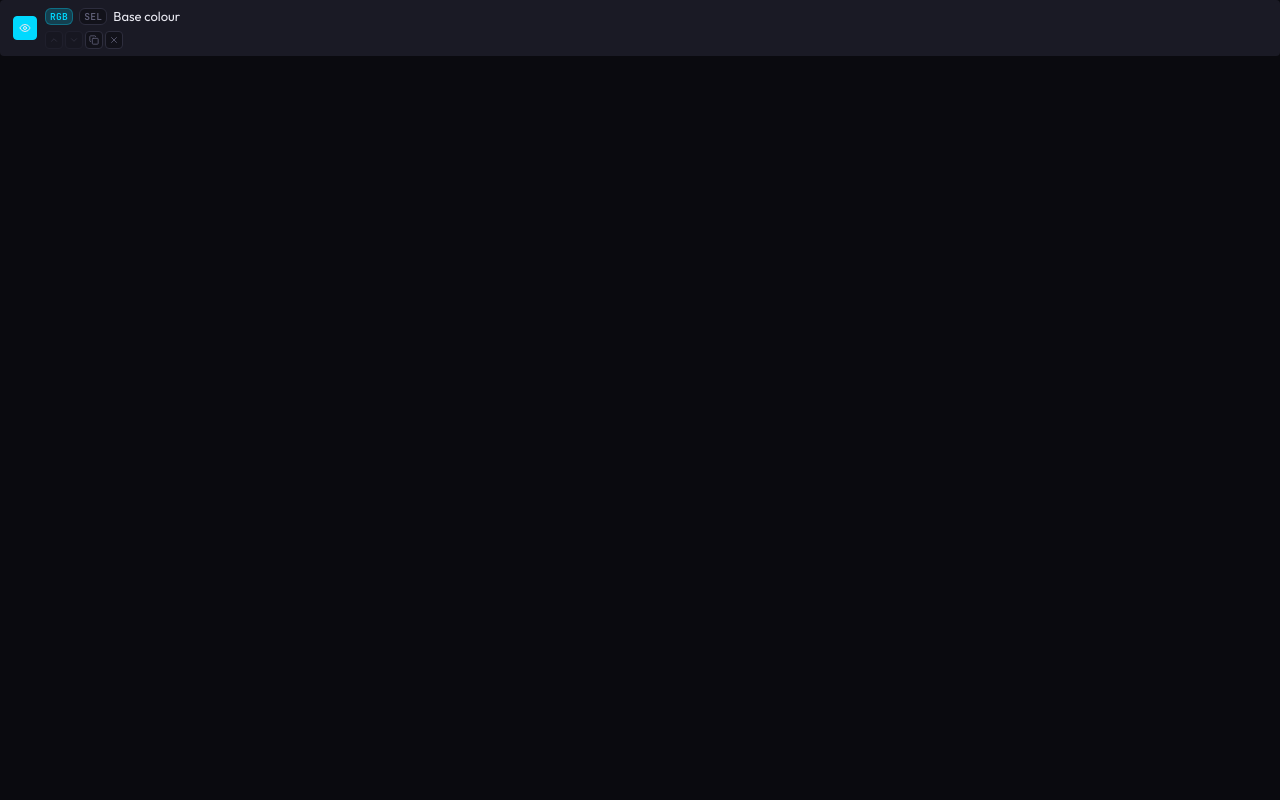
Test: the portal — the reason the menu is not clipped › renders OUTSIDE the row subtree, on document.body
This screenshot has width=1280, height=800.
Click the button with aria-label "Channel:". click: point(59, 17)
box: left=45, top=8, right=73, bottom=25
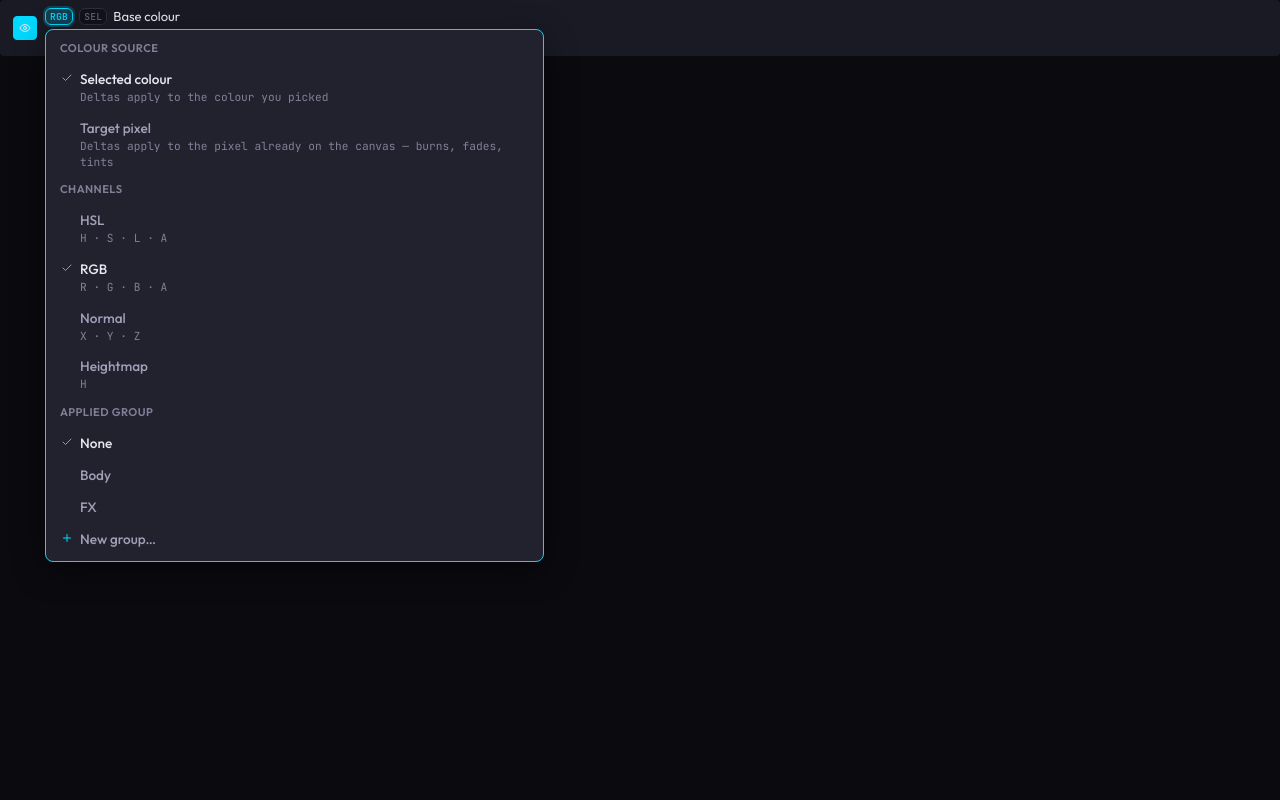
Result: the menu is shown at left=45, top=30, right=544, bottom=562
Result: the button with aria-label "Channel:" is expanded at left=45, top=8, right=73, bottom=25
